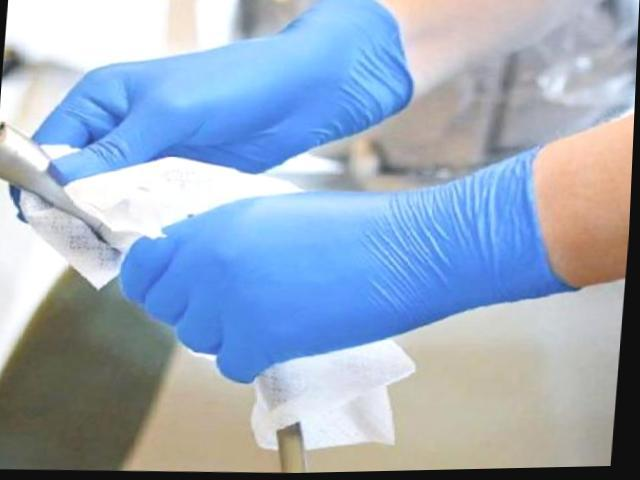Hand-in-Glove: (83, 137, 569, 418), (13, 0, 441, 193)
